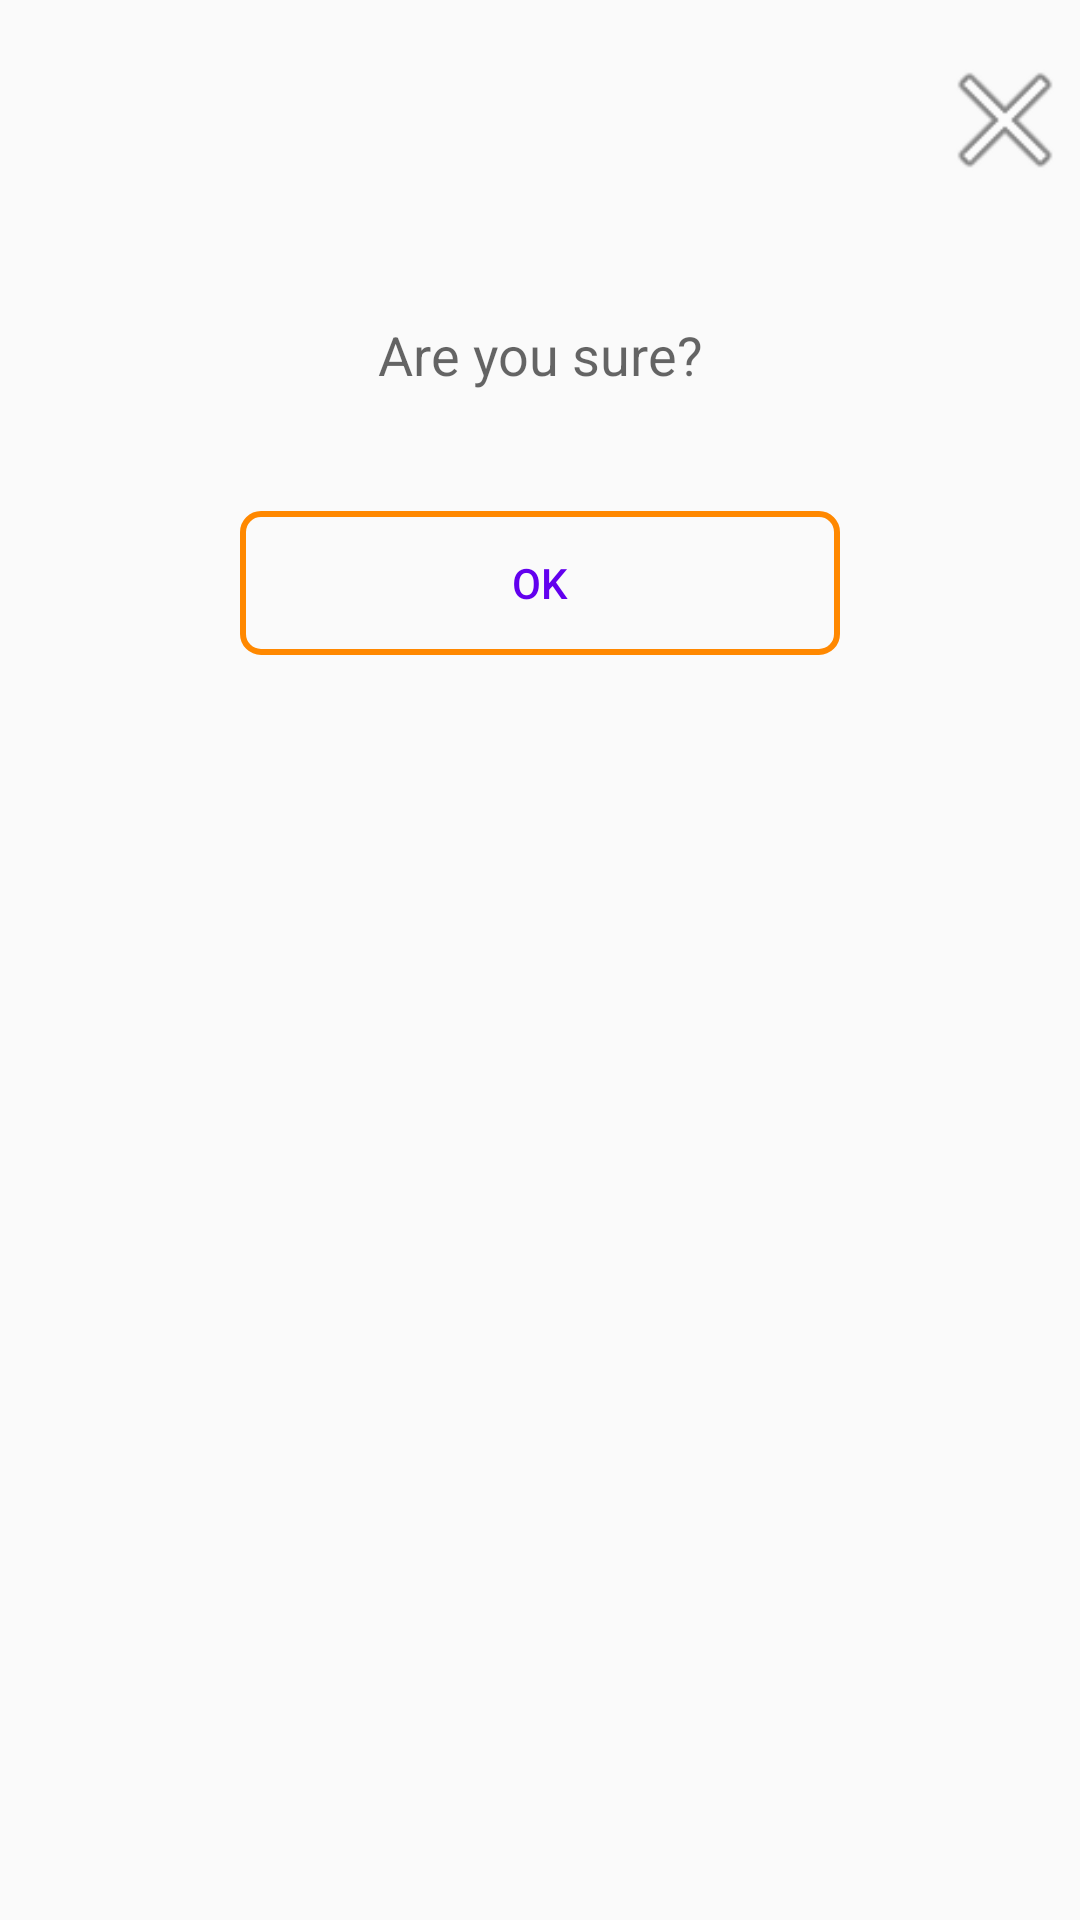

Named icons in this screenshot (1080x1920) and their bounding boxes, (x1,y1,x2,y2):
close clear cancel: (958,73,1052,167)
